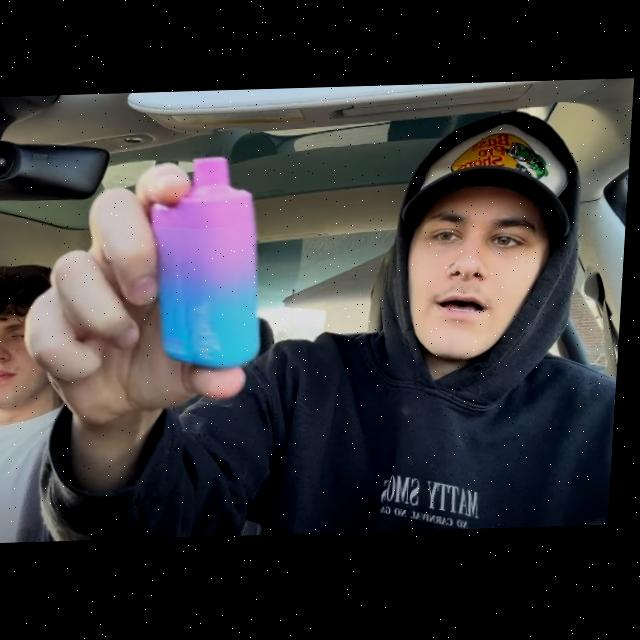vape: (147, 156, 274, 370)
